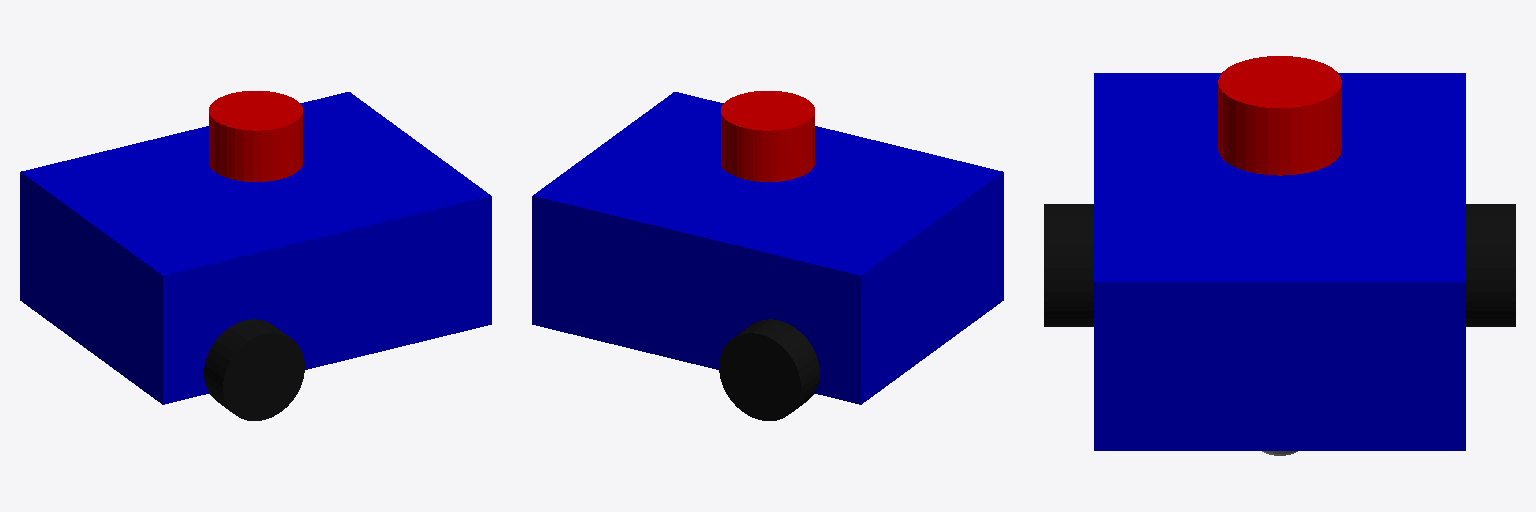
The robot description file, URDF, robot "lidar_robot":
<?xml version="1.0"?>
<robot name="lidar_robot" xmlns:xacro="http://www.ros.org/wiki/xacro">

  <!-- Robot Base -->
  <link name="base_footprint"/>

  <joint name="base_joint" type="fixed">
    <parent link="base_footprint"/>
    <child link="base_link"/>
    <origin xyz="0 0 0.05" rpy="0 0 0"/>
  </joint>

  <link name="base_link">
    <visual>
      <geometry>
        <box size="0.4 0.3 0.15"/>
      </geometry>
      <material name="blue">
        <color rgba="0.0 0.0 0.8 1.0"/>
      </material>
    </visual>
    <collision>
      <geometry>
        <box size="0.4 0.3 0.15"/>
      </geometry>
    </collision>
    <inertial>
      <mass value="5.0"/>
      <inertia ixx="0.05" ixy="0.0" ixz="0.0" iyy="0.07" iyz="0.0" izz="0.09"/>
    </inertial>
  </link>

  <!-- Left Wheel -->
  <link name="left_wheel">
    <visual>
      <geometry>
        <cylinder radius="0.05" length="0.04"/>
      </geometry>
      <material name="black">
        <color rgba="0.1 0.1 0.1 1.0"/>
      </material>
    </visual>
    <collision>
      <geometry>
        <cylinder radius="0.05" length="0.04"/>
      </geometry>
      <surface>
        <friction>
          <ode>
            <mu>0.3</mu>
            <mu2>0.3</mu2>
          </ode>
        </friction>
      </surface>
    </collision>
    <inertial>
      <mass value="0.5"/>
      <inertia ixx="0.001" ixy="0.0" ixz="0.0" iyy="0.001" iyz="0.0" izz="0.001"/>
    </inertial>
  </link>

  <joint name="left_wheel_joint" type="continuous">
    <parent link="base_link"/>
    <child link="left_wheel"/>
    <origin xyz="-0.1 0.17 -0.05" rpy="-1.5707 0 0"/>
    <axis xyz="0 0 1"/>
  </joint>

  <!-- Right Wheel -->
  <link name="right_wheel">
    <visual>
      <geometry>
        <cylinder radius="0.05" length="0.04"/>
      </geometry>
      <material name="black">
        <color rgba="0.1 0.1 0.1 1.0"/>
      </material>
    </visual>
    <collision>
      <geometry>
        <cylinder radius="0.05" length="0.04"/>
      </geometry>
      <surface>
        <friction>
          <ode>
            <mu>0.3</mu>
            <mu2>0.3</mu2>
          </ode>
        </friction>
      </surface>
    </collision>
    <inertial>
      <mass value="0.5"/>
      <inertia ixx="0.001" ixy="0.0" ixz="0.0" iyy="0.001" iyz="0.0" izz="0.001"/>
    </inertial>
  </link>

  <joint name="right_wheel_joint" type="continuous">
    <parent link="base_link"/>
    <child link="right_wheel"/>
    <origin xyz="-0.1 -0.17 -0.05" rpy="-1.5707 0 0"/>
    <axis xyz="0 0 1"/>
  </joint>

  <!-- Caster Wheel -->
  <link name="caster_wheel">
    <visual>
      <geometry>
        <sphere radius="0.03"/>
      </geometry>
      <material name="grey">
        <color rgba="0.5 0.5 0.5 1.0"/>
      </material>
    </visual>
    <collision>
      <geometry>
        <sphere radius="0.03"/>
      </geometry>
      <surface>
        <friction>
          <ode>
            <mu>0.0</mu>
            <mu2>0.0</mu2>
          </ode>
        </friction>
      </surface>
    </collision>
    <inertial>
      <mass value="0.1"/>
      <inertia ixx="0.0001" ixy="0.0" ixz="0.0" iyy="0.0001" iyz="0.0" izz="0.0001"/>
    </inertial>
  </link>

  <joint name="caster_wheel_joint" type="fixed">
    <parent link="base_link"/>
    <child link="caster_wheel"/>
    <origin xyz="0.15 0 -0.07" rpy="0 0 0"/>
  </joint>

  <!-- LiDAR Sensor -->
  <link name="lidar_link">
    <visual>
      <geometry>
        <cylinder radius="0.05" length="0.06"/>
      </geometry>
      <material name="red">
        <color rgba="0.8 0.0 0.0 1.0"/>
      </material>
    </visual>
    <collision>
      <geometry>
        <cylinder radius="0.05" length="0.06"/>
      </geometry>
    </collision>
    <inertial>
      <mass value="0.2"/>
      <inertia ixx="0.0001" ixy="0.0" ixz="0.0" iyy="0.0001" iyz="0.0" izz="0.0001"/>
    </inertial>
  </link>

  <joint name="lidar_joint" type="fixed">
    <parent link="base_link"/>
    <child link="lidar_link"/>
    <origin xyz="0 0 0.13" rpy="0 0 0"/>
  </joint>

  <!-- Gazebo Plugins -->
  <gazebo reference="base_link">
    <material>Gazebo/Blue</material>
  </gazebo>

  <gazebo reference="left_wheel">
    <material>Gazebo/DarkGrey</material>
    <mu1>0.3</mu1>
    <mu2>0.3</mu2>
  </gazebo>

  <gazebo reference="right_wheel">
    <material>Gazebo/DarkGrey</material>
    <mu1>0.3</mu1>
    <mu2>0.3</mu2>
  </gazebo>

  <gazebo reference="caster_wheel">
    <material>Gazebo/Grey</material>
    <mu1>0.0</mu1>
    <mu2>0.0</mu2>
  </gazebo>

  <gazebo reference="lidar_link">
    <material>Gazebo/Red</material>
    <sensor name="lidar_sensor" type="ray">
      <pose>0 0 0 0 0 0</pose>
      <visualize>true</visualize>
      <update_rate>10</update_rate>
      <ray>
        <scan>
          <horizontal>
            <samples>360</samples>
            <resolution>1</resolution>
            <min_angle>-3.14159</min_angle>
            <max_angle>3.14159</max_angle>
          </horizontal>
        </scan>
        <range>
          <min>0.15</min>
          <max>12.0</max>
          <resolution>0.01</resolution>
        </range>
        <noise>
          <type>gaussian</type>
          <mean>0.0</mean>
          <stddev>0.01</stddev>
        </noise>
      </ray>
      <plugin name="scan" filename="libgazebo_ros_ray_sensor.so">
        <ros>
          <namespace>/</namespace>
          <remapping>~/out:=scan</remapping>
        </ros>
        <output_type>sensor_msgs/LaserScan</output_type>
        <frame_name>lidar_link</frame_name>
      </plugin>
    </sensor>
  </gazebo>

  <!-- Differential Drive Plugin -->
  <gazebo>
    <plugin name="diff_drive" filename="libgazebo_ros_diff_drive.so">
      <update_rate>50</update_rate>
      <left_joint>left_wheel_joint</left_joint>
      <right_joint>right_wheel_joint</right_joint>
      <wheel_separation>0.34</wheel_separation>
      <wheel_diameter>0.10</wheel_diameter>
      <max_wheel_torque>20</max_wheel_torque>
      <max_wheel_acceleration>1.0</max_wheel_acceleration>
      <command_topic>cmd_vel</command_topic>
      <publish_odom>true</publish_odom>
      <publish_odom_tf>true</publish_odom_tf>
      <publish_wheel_tf>false</publish_wheel_tf>
      <odometry_topic>odom</odometry_topic>
      <odometry_frame>odom</odometry_frame>
      <robot_base_frame>base_footprint</robot_base_frame>
    </plugin>
  </gazebo>

  <!-- Joint State Publisher Plugin -->
  <gazebo>
    <plugin name="joint_state_publisher" filename="libgazebo_ros_joint_state_publisher.so">
      <update_rate>50</update_rate>
      <joint_name>left_wheel_joint</joint_name>
      <joint_name>right_wheel_joint</joint_name>
    </plugin>
  </gazebo>

</robot>

--- Facts derived from the render (not from the file) ---
The picture shows the robot from 3 angles, left to right: view 1: azimuth 30°, elevation 25°; view 2: azimuth 150°, elevation 25°; view 3: azimuth 270°, elevation 25°; orthographic projection.
Model lidar_robot with 6 links and 5 joints (2 continuous, 3 fixed), rooted at base_footprint, posed all joints at 0.
Visible links, largest first — view 1: base_link, lidar_link, right_wheel; view 2: base_link, lidar_link, left_wheel; view 3: base_link, lidar_link, left_wheel, right_wheel.
Boxes of the visible links, x1=… form: base_link: x1=20, y1=92, x2=491, y2=404; lidar_link: x1=209, y1=91, x2=302, y2=181; right_wheel: x1=204, y1=319, x2=304, y2=420; base_link: x1=532, y1=92, x2=1003, y2=404; lidar_link: x1=721, y1=91, x2=814, y2=181; left_wheel: x1=719, y1=319, x2=819, y2=420; base_link: x1=1094, y1=73, x2=1465, y2=450; lidar_link: x1=1218, y1=56, x2=1341, y2=175; left_wheel: x1=1466, y1=204, x2=1515, y2=326; right_wheel: x1=1044, y1=204, x2=1093, y2=326.
Size in the robot's own frame: 0.4 by 0.38 by 0.26 metres.
Geometry: primitives only (box / cylinder / sphere), no mesh files.
